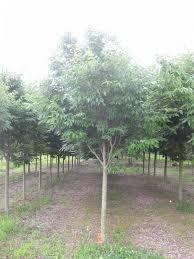tree: (35, 21, 166, 250)
